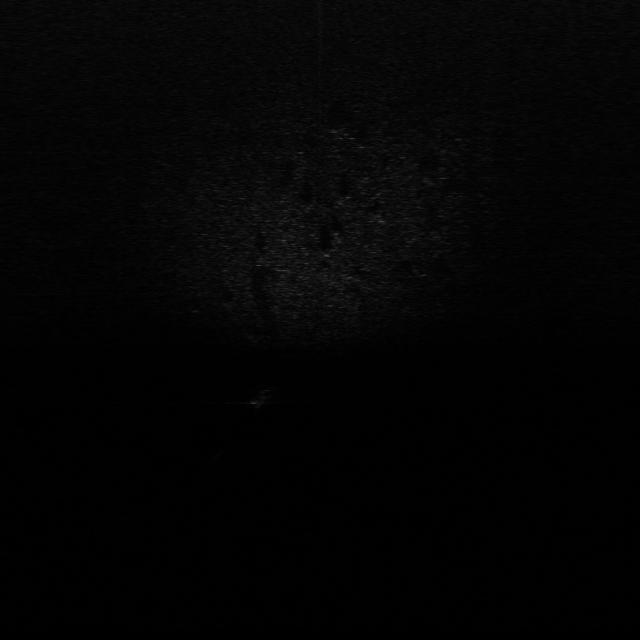human body: (240, 383, 286, 420)
